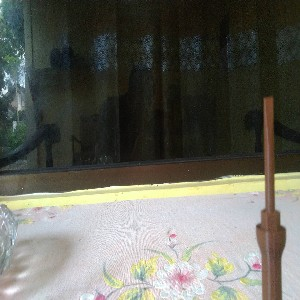obeng: (255, 95, 287, 300)
